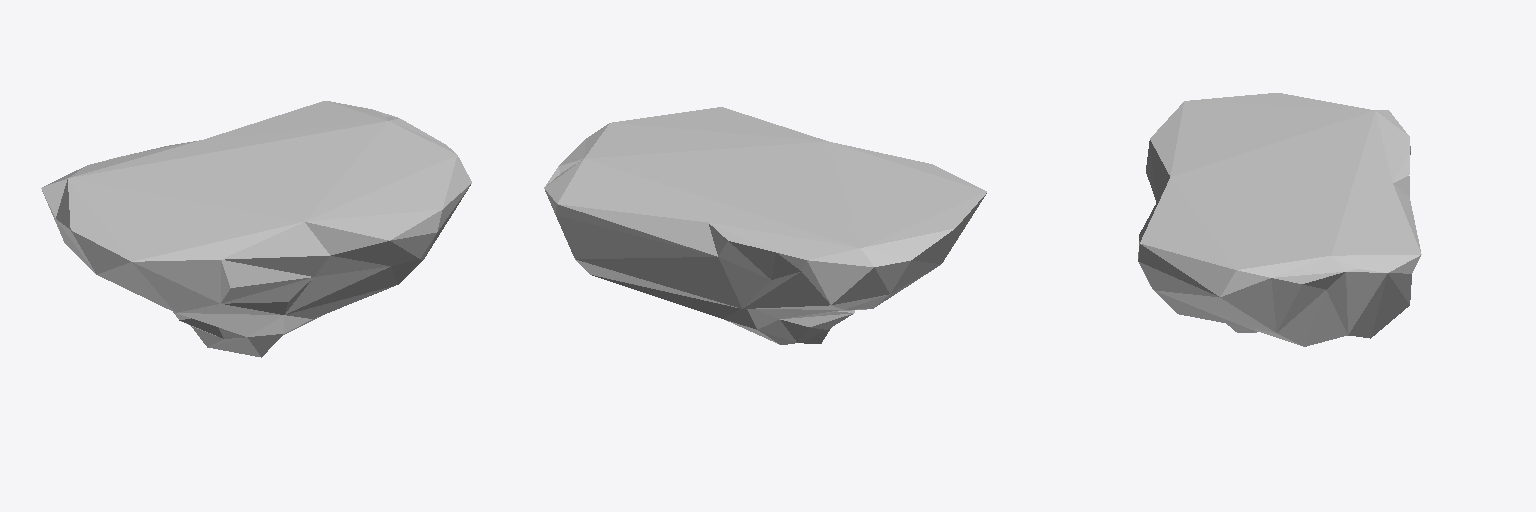
Rendered from IslandMini3.obj.
3 views of the same model, side by side, from view 1: azimuth 30°, elevation 25°; view 2: azimuth 150°, elevation 25°; view 3: azimuth 270°, elevation 25° (orthographic).
Visible parts, largest first — view 1: Mini_Island_3_Sphere.008; view 2: Mini_Island_3_Sphere.008; view 3: Mini_Island_3_Sphere.008.
Part boxes in pixels (bbox=[...]): Mini_Island_3_Sphere.008: bbox=[41, 101, 471, 357]; Mini_Island_3_Sphere.008: bbox=[544, 107, 986, 344]; Mini_Island_3_Sphere.008: bbox=[1138, 93, 1421, 346].
Bounding box in the file's own units: 19.45 × 7.73 × 12.8.